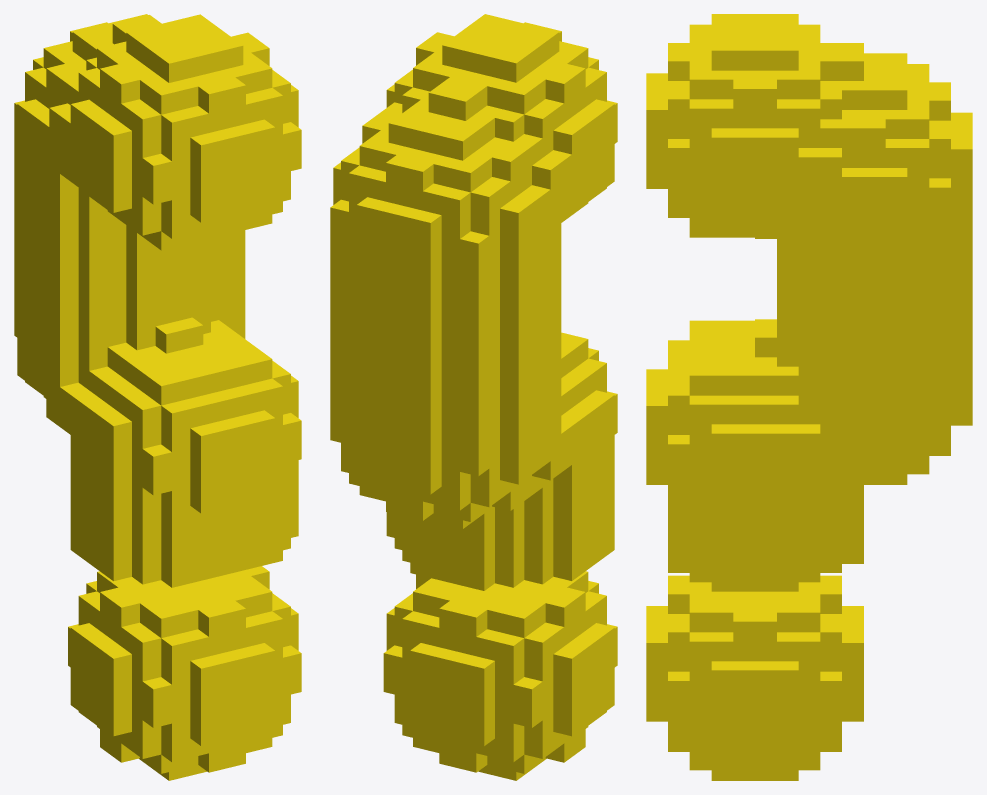
The model's file is powerup.obj.
3 renders of one model, left to right at view 1: azimuth 30°, elevation 25°; view 2: azimuth 150°, elevation 25°; view 3: azimuth 270°, elevation 25°, orthographic.
Parts seen in each view (by area): view 1: powerup; view 2: powerup; view 3: powerup.
Part boxes in pixels (x1=…): powerup: x1=14, y1=14, x2=301, y2=780; powerup: x1=330, y1=14, x2=617, y2=780; powerup: x1=646, y1=14, x2=972, y2=780.
Size of the model in its own units: 10 by 37 by 15.
Materials: 1 (1 with a texture image).
